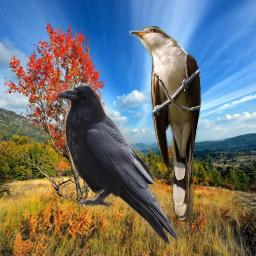Crow: (55, 83, 180, 247)
Cuckoo: (129, 26, 202, 222)
